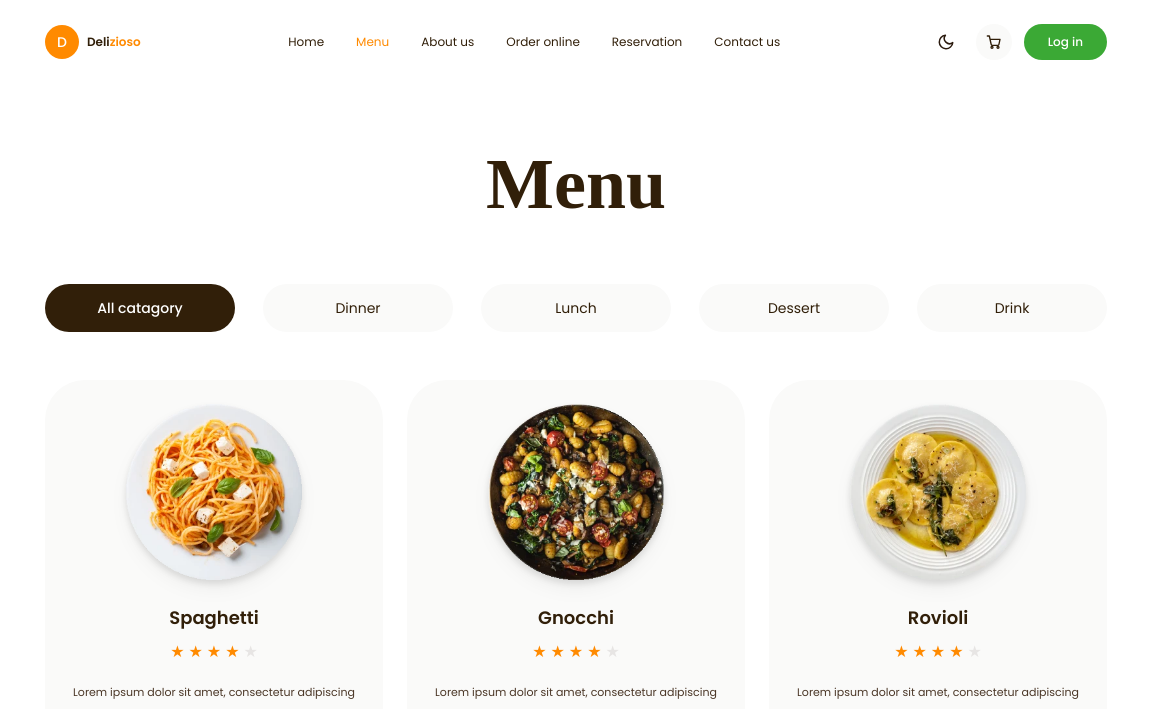
Scenario: Menu (issues 5 & 6) › category tabs filter the dishes
The width and height of the screenshot is (1152, 709).
expect the heading "Spaghetti" is shown: met, box [169,604,259,632]
Click the tab "Dessert" at (794,308), box [699,284,889,332]
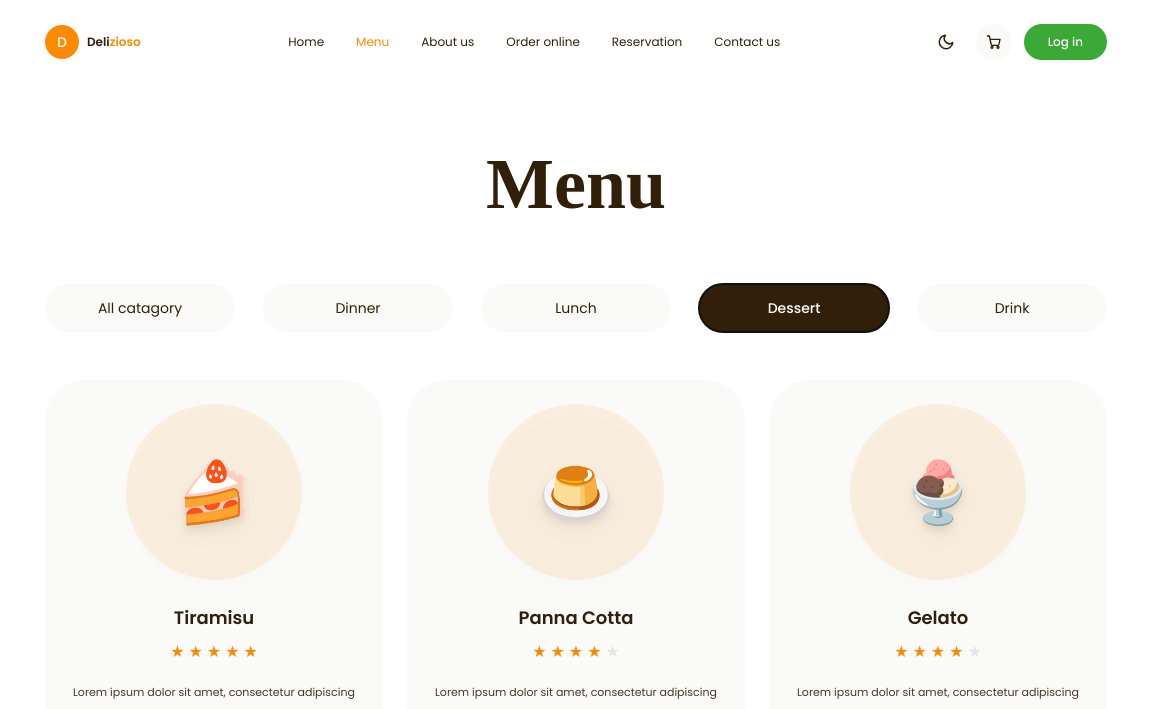
expect the heading "Tiramisu" is shown: met, box [174,604,254,632]
expect the button "Spaghetti" is gone: met
Click the tab "Drink" at (1012,308), box [917,284,1107,332]
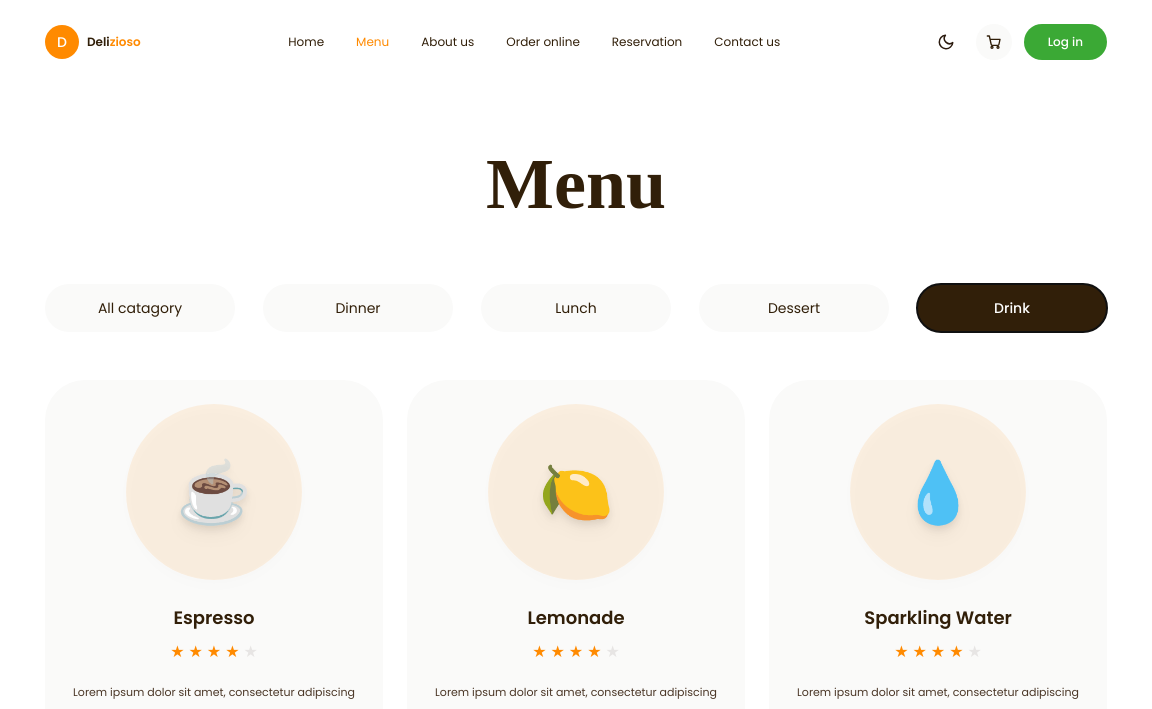
expect the heading "Espresso" is shown: met, box [174,604,255,632]
expect the button "Tiramisu" is gone: met
Click the tab "Lunch" at (576,308), box [481,284,671,332]
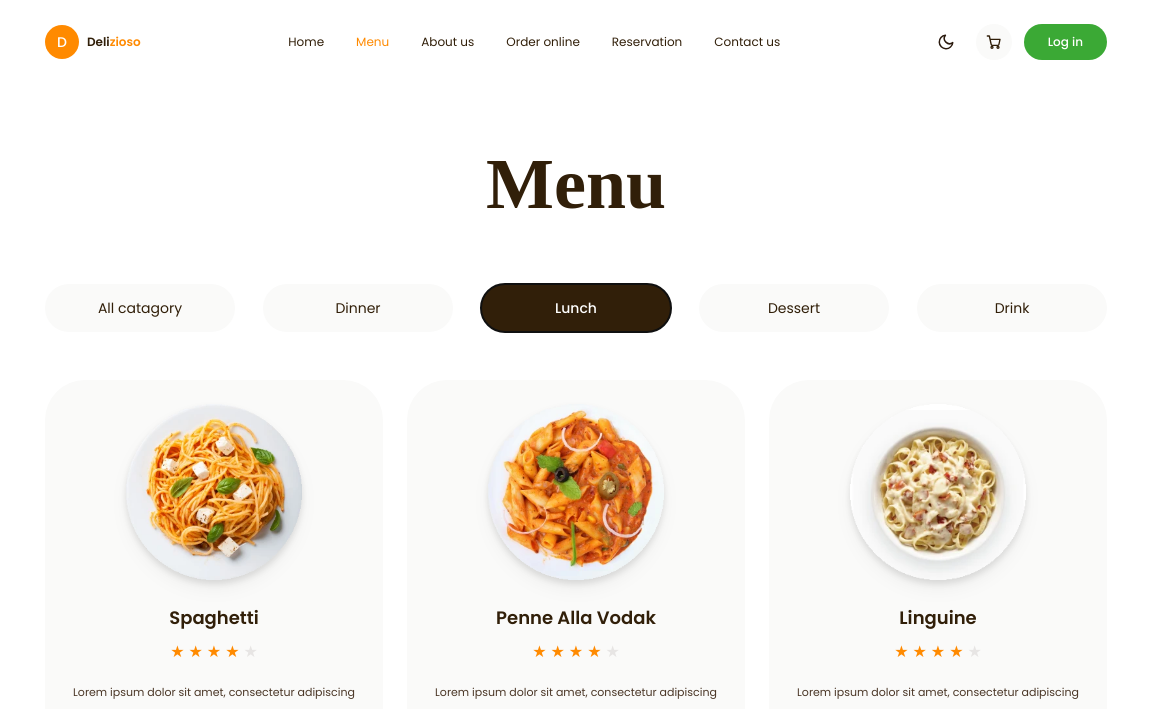
expect the button "Gnocchi" is not shown: met
expect the heading "Linguine" is shown: met, box [899,604,977,632]
